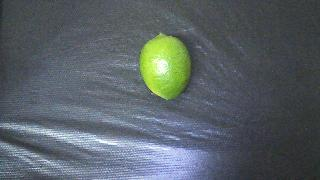LOCAL: (139, 33, 191, 100)
